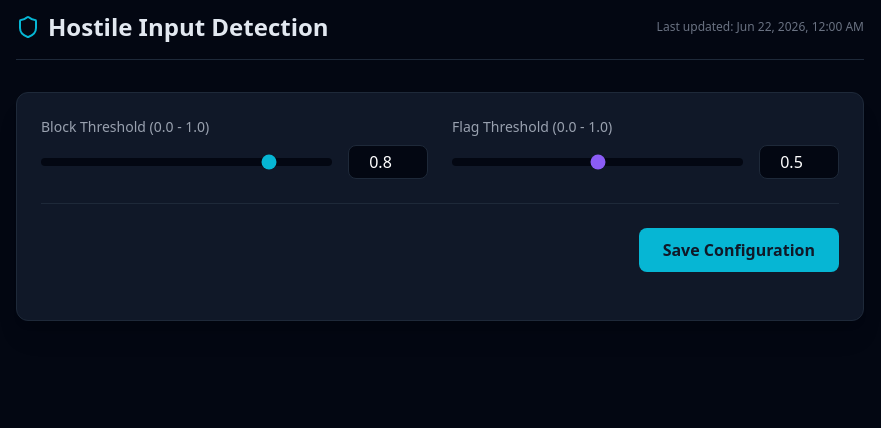
it: AdminDetectionPage › renders validation error when block threshold is less than or equal to flag threshold
Set the slider labelled "Block Threshold (0.0 - 1.0)" to "0.5" at (186, 162), box [41,158,332,166]
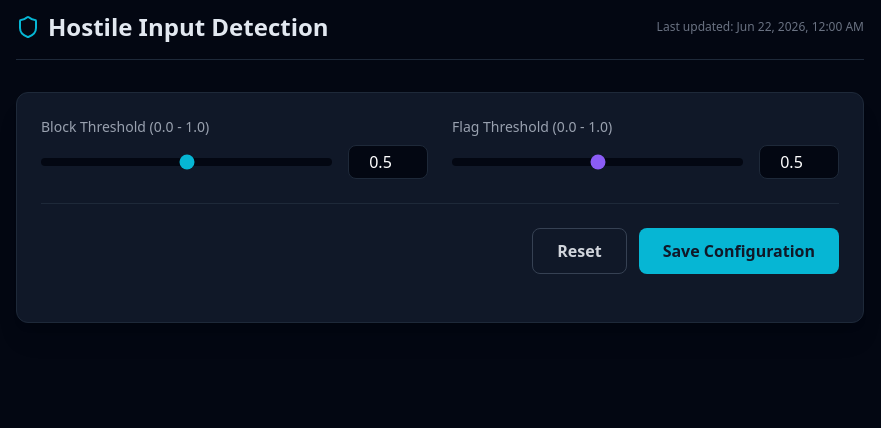
Set the slider labelled "Flag Threshold (0.0 - 1.0)" to "0.6" at (625, 162), box [452,158,743,166]
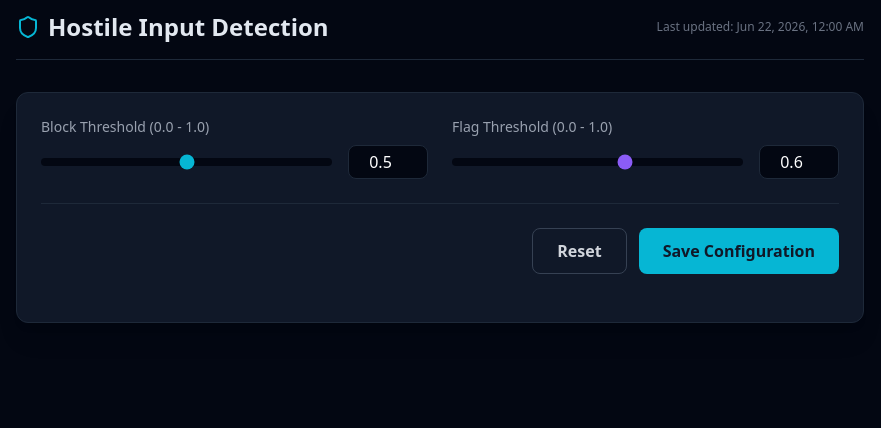
Click the button "Save Configuration".
click(739, 251)  # box [639,228,839,274]
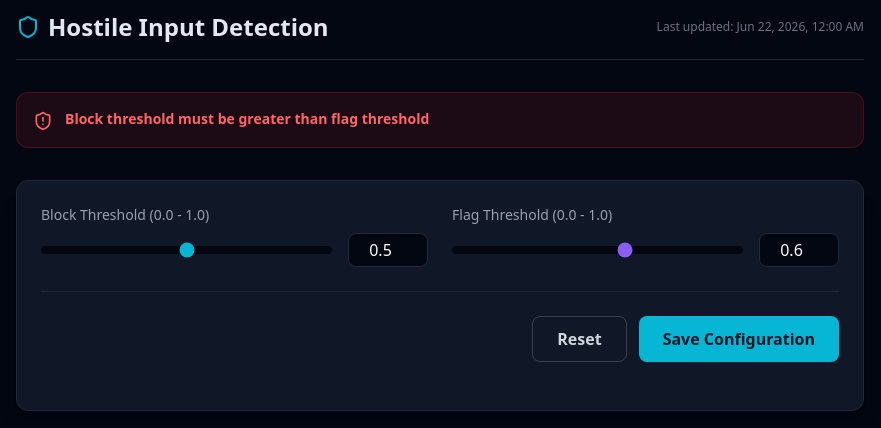
Check: the text "Block threshold must be greater than flag threshold" is shown, box [65,109,429,129]
